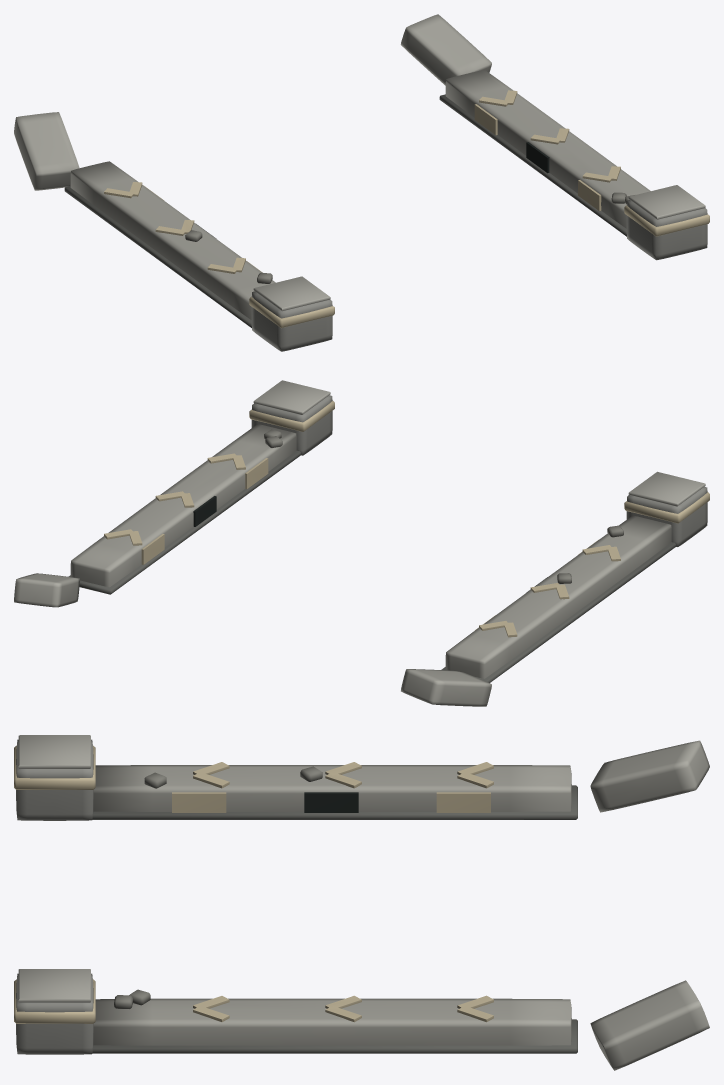
File: takeoff_deck_b.glb
3 renders of one model, top to bottom at view 1: azimuth 30°, elevation 25°; view 2: azimuth 150°, elevation 25°; view 3: azimuth 270°, elevation 25°, orthographic. The views are drawn at different scales.
Visible parts, largest first — view 1: Surface; view 2: Surface; view 3: Surface.
Part boxes in pixels (box(x1,y1,x2,y2)): Surface: box(14, 14, 709, 351); Surface: box(14, 380, 709, 706); Surface: box(14, 735, 709, 1070).
Size of the model in its own units: 11.17 by 1.17 by 11.57.
